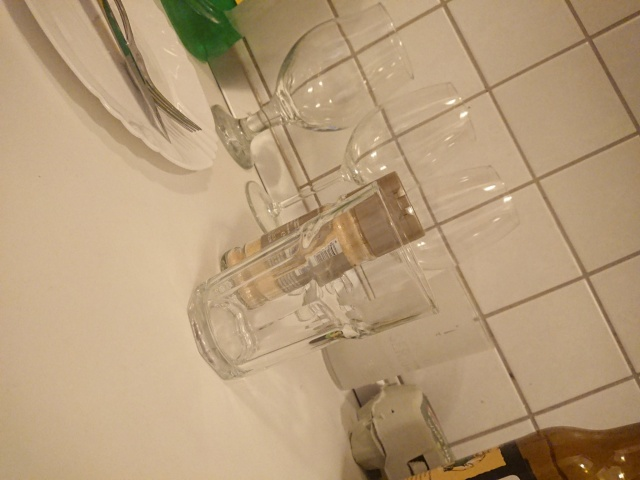Kotanyi Garlic Granules 70g: (216, 166, 429, 314)
